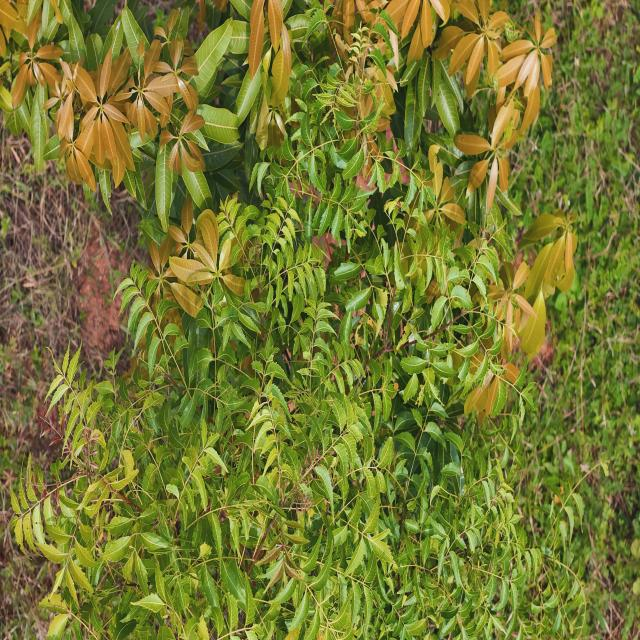mangoTree: (0, 0, 578, 419)
notMangoTree: (0, 354, 600, 640)
